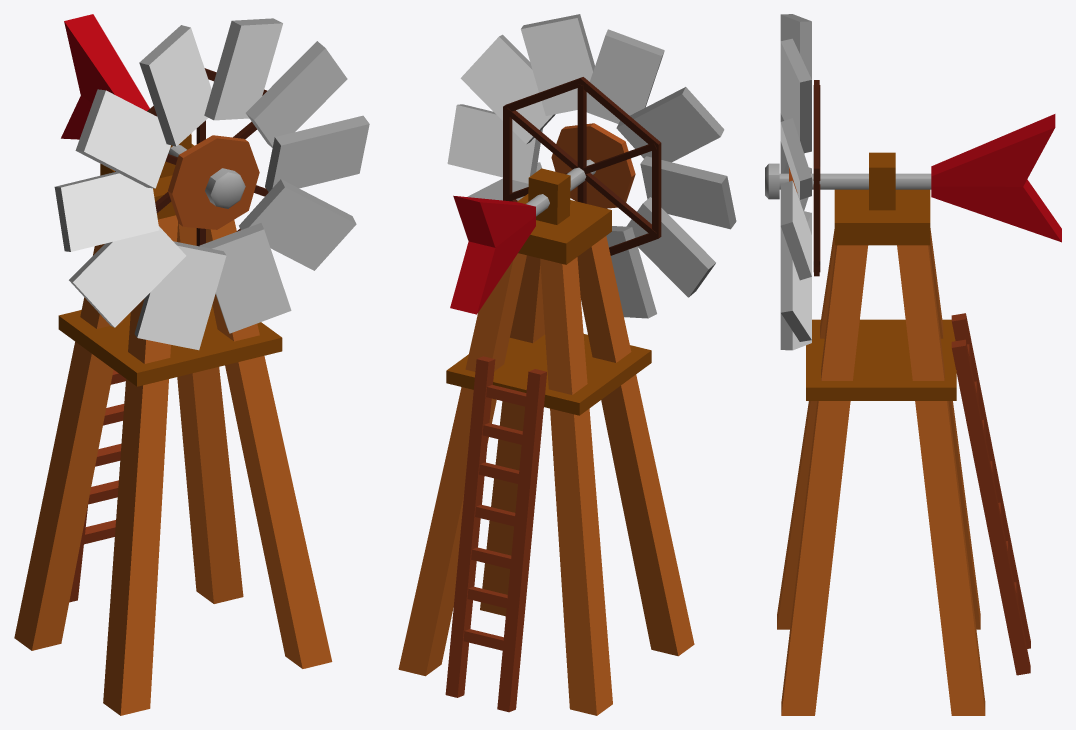
Rendered from Wind_Mill.fbx.
The picture shows the model from 3 angles, left to right: view 1: azimuth 30°, elevation 25°; view 2: azimuth 150°, elevation 25°; view 3: azimuth 270°, elevation 25°; orthographic projection. The views are drawn at different scales.
Parts seen in each view (by area): view 1: WindMill; view 2: WindMill; view 3: WindMill.
Boxes of the visible parts, x1,y1,x2,y2 form: WindMill: (14, 14, 369, 715); WindMill: (398, 14, 736, 715); WindMill: (765, 14, 1061, 715).
Bounding box in the file's own units: 135 × 284 × 121.
